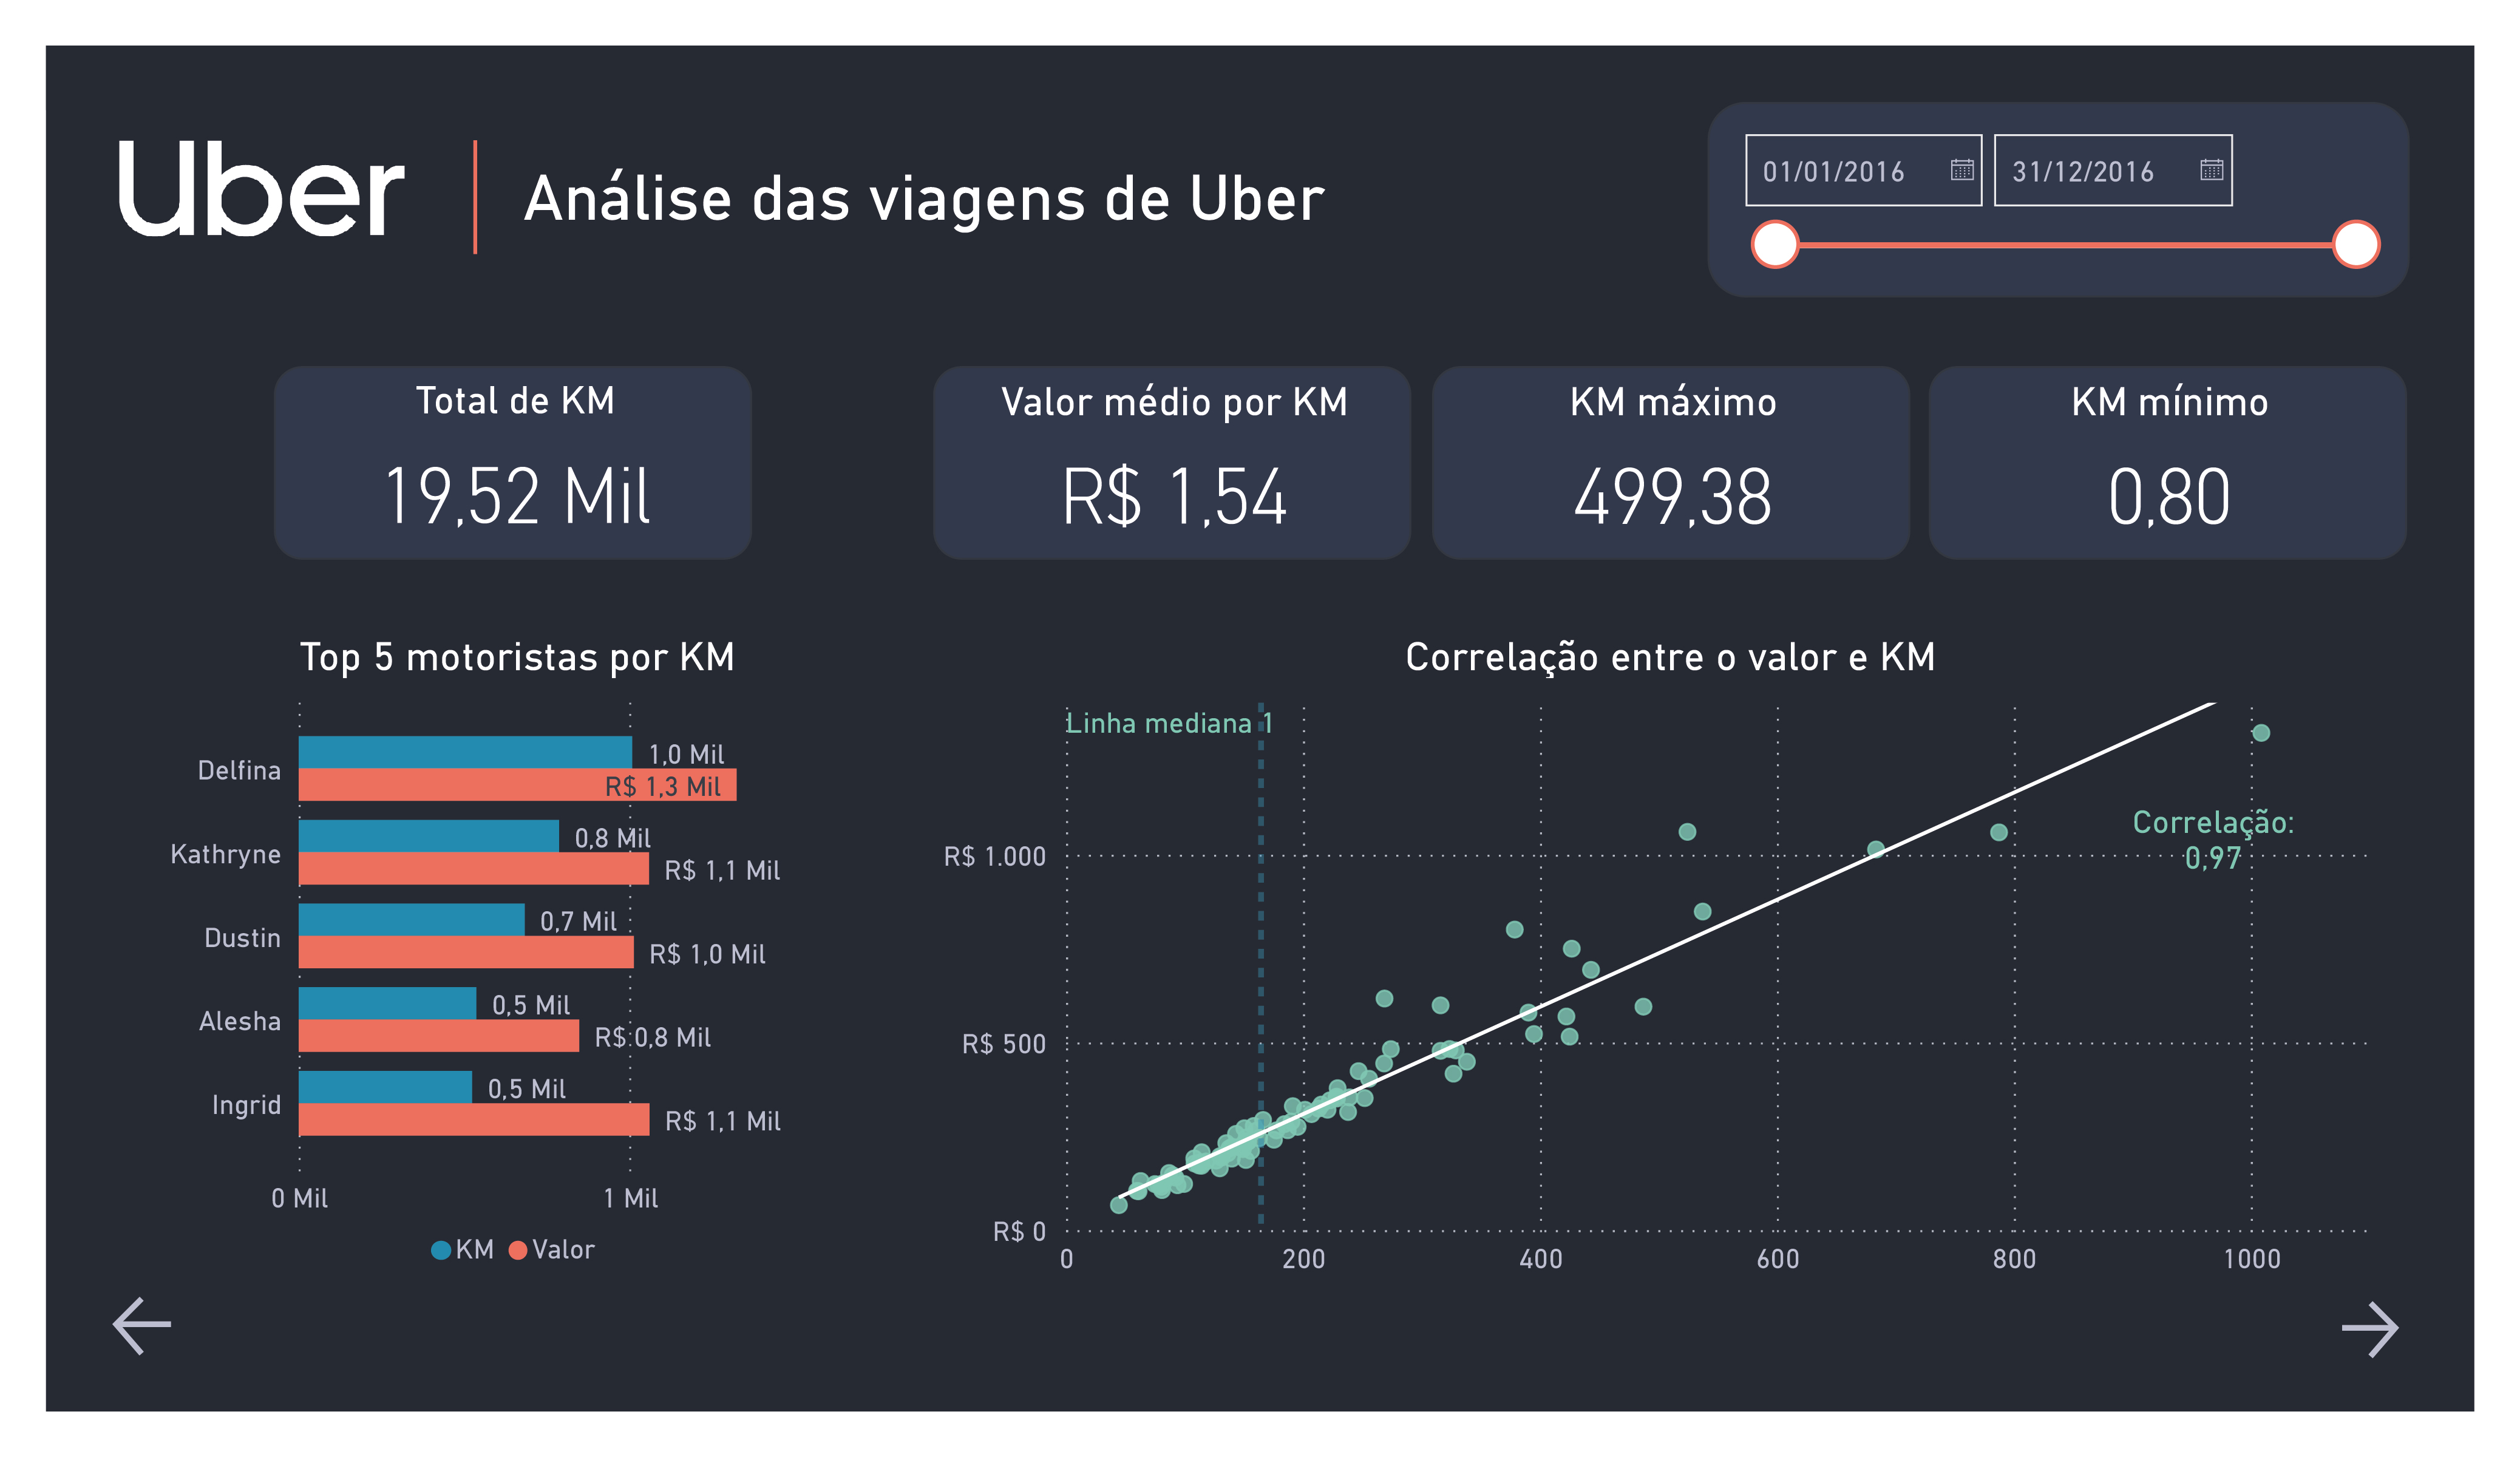

Layout of this report page (visuals, bound fields, positions):
{"tool":"powerbi","page":{"name":"KM","canvas":[1280,720],"ordinal":2},"visuals":[{"type":"card","title":"Total de KM","fields":{"Values":["Dataset Uber 2016.KM"]},"box":[120.3,169.3,252.4,102.4],"z":0},{"type":"card","title":"KM máximo","fields":{"Values":["Dataset Uber 2016.KM"]},"box":[730.9,168.9,252.4,102.4],"z":1000},{"type":"card","title":"KM mínimo","fields":{"Values":["Dataset Uber 2016.KM"]},"box":[993.1,168.9,252.4,102.4],"z":2000},{"type":"card","title":"Valor médio por KM","fields":{"Values":["Dataset Uber 2016.# VALOR / KM"]},"box":[468,168.9,252.4,102.4],"z":3000},{"type":"textbox","box":[246.2,56.5,597.9,54],"z":4000},{"type":"shape","box":[212.3,50.2,28.9,60.3],"z":5000},{"type":"image","box":[15.1,30.1,197.2,94.2],"z":6000},{"type":"actionButton","box":[1204.8,656.4,40.8,39.6],"z":7000},{"type":"scatterChart","title":"Correlação entre o valor e KM","fields":{"X":["Dataset Uber 2016.KM"],"Category":["Drivers.ID_MOTORISTA"],"Y":["Dataset Uber 2016.VALOR"]},"box":[467.9,309.6,777.5,346.5],"z":8000},{"type":"clusteredBarChart","title":"Top 5 motoristas por KM","fields":{"Category":["Drivers.NOME"],"Y":["Dataset Uber 2016.KM","Dataset Uber 2016.VALOR"]},"box":[57.9,309.9,380.3,345.9],"z":9000},{"type":"textbox","box":[1060.7,394.2,164.2,57.1],"z":10000},{"type":"actionButton","box":[31.3,654.3,45.4,40.7],"z":11000},{"type":"slicer","fields":{"Values":["Dataset Uber 2016.INÍCIO_VIAGEM"]},"box":[876,29.2,369.9,103.2],"z":12000}]}

Visuals, with their boxes on the page's 1280x720 design canvas (x1, y1, x2, y2). These are canvas units, not pixel positions in the 2520x1457 screenshot, which may show the page scaled, cropped or inside an application window:
"Total de KM" card: (120,169,373,272)
"KM máximo" card: (731,169,983,271)
"KM mínimo" card: (993,169,1246,271)
"Valor médio por KM" card: (468,169,720,271)
textbox: (246,56,844,110)
shape: (212,50,241,110)
image: (15,30,212,124)
actionButton: (1205,656,1246,696)
"Correlação entre o valor e KM" scatterChart: (468,310,1245,656)
"Top 5 motoristas por KM" clusteredBarChart: (58,310,438,656)
textbox: (1061,394,1225,451)
actionButton: (31,654,77,695)
slicer - Dataset Uber 2016.INÍCIO_VIAGEM: (876,29,1246,132)
